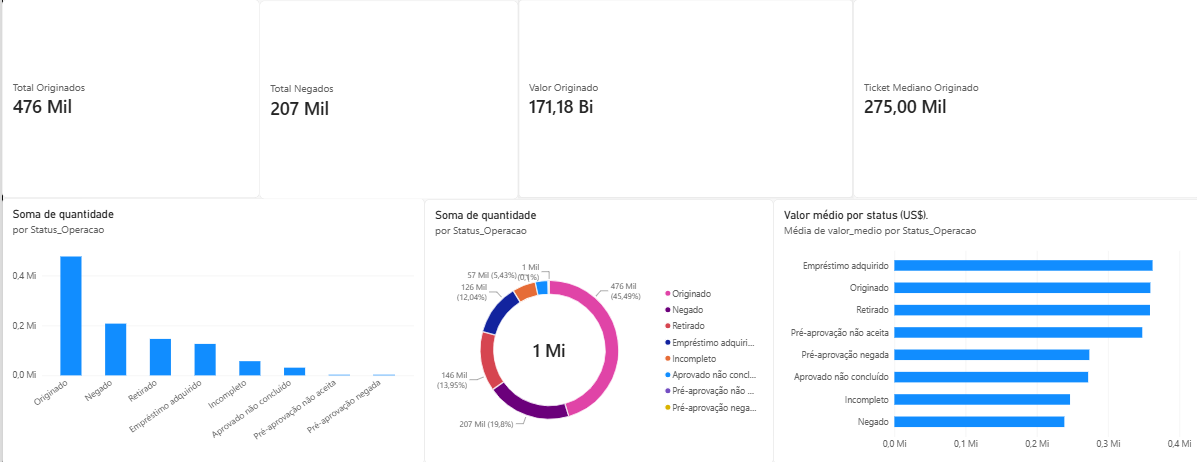

The dashboard page shown, as its layout file describes it:
{"tool":"powerbi","page":{"name":"Página 1","canvas":[1920,1080],"ordinal":0},"visuals":[{"type":"clusteredColumnChart","fields":{"Category":["resumo_operacoes (2).Status_Operacao"],"Y":["Sum(resumo_operacoes (2).quantidade)"]},"box":[0,392,676,426],"z":0},{"type":"cardVisual","fields":{"Data":["resumo_operacoes (2).Ticket Mediano Originado"]},"box":[1362,74,558,318],"z":1000},{"type":"cardVisual","fields":{"Data":["resumo_operacoes (2).Total Negados"]},"box":[412,76,414,318],"z":2000},{"type":"cardVisual","fields":{"Data":["resumo_operacoes (2).Valor Originado"]},"box":[826,74,536,318],"z":3000},{"type":"cardVisual","fields":{"Data":["resumo_operacoes (2).Total Originados"]},"box":[0,74,412,318],"z":4000},{"type":"donutChart","fields":{"Category":["resumo_operacoes (2).Status_Operacao"],"Y":["Sum(resumo_operacoes (2).quantidade)"]},"box":[676,394,558,424],"z":5000},{"type":"barChart","title":"Valor médio por status (US$).","fields":{"Category":["resumo_operacoes (2).Status_Operacao"],"Y":["Avg(resumo_operacoes (2).valor_medio)"]},"box":[1234,394,686,424],"z":5001},{"type":"textbox","box":[0,828,720,252],"z":5002}]}

Visuals, with their boxes on the page's 1920x1080 design canvas (x1, y1, x2, y2). These are canvas units, not pixel positions in the 1197x462 screenshot, which may show the page scaled, cropped or inside an application window:
clusteredColumnChart - resumo_operacoes (2).Status_Operacao x Sum(resumo_operacoes (2).quantidade): (left=0, top=392, right=676, bottom=818)
cardVisual - resumo_operacoes (2).Ticket Mediano Originado: (left=1362, top=74, right=1920, bottom=392)
cardVisual - resumo_operacoes (2).Total Negados: (left=412, top=76, right=826, bottom=394)
cardVisual - resumo_operacoes (2).Valor Originado: (left=826, top=74, right=1362, bottom=392)
cardVisual - resumo_operacoes (2).Total Originados: (left=0, top=74, right=412, bottom=392)
donutChart - resumo_operacoes (2).Status_Operacao x Sum(resumo_operacoes (2).quantidade): (left=676, top=394, right=1234, bottom=818)
"Valor médio por status (US$)." barChart: (left=1234, top=394, right=1920, bottom=818)
textbox: (left=0, top=828, right=720, bottom=1080)
